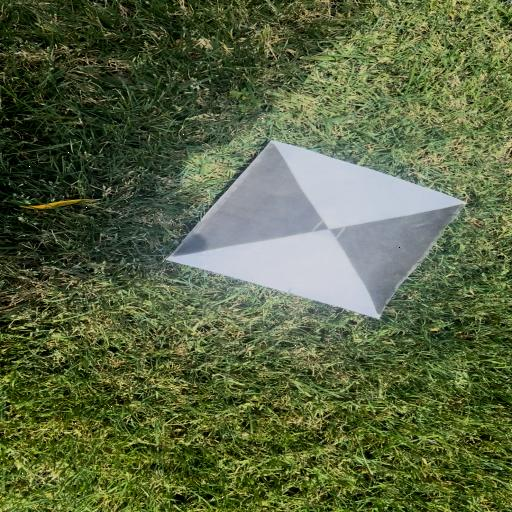target: (165, 142, 466, 317)
